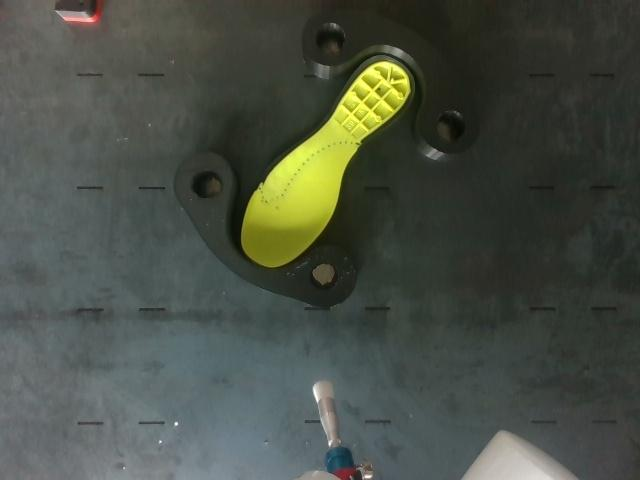shoes: (241, 55, 415, 267)
